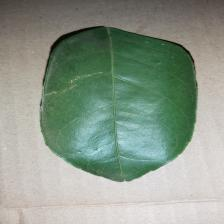healthy: (12, 32, 184, 157)
